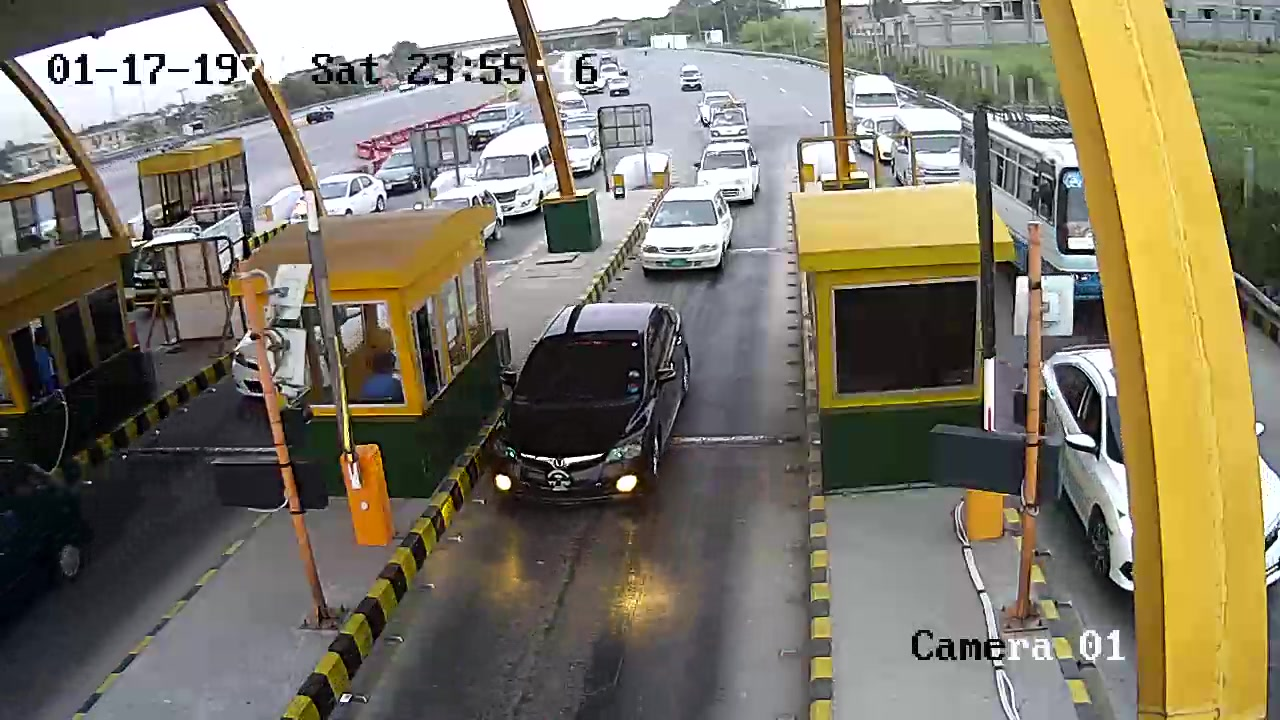F1: (483, 300, 691, 533)
